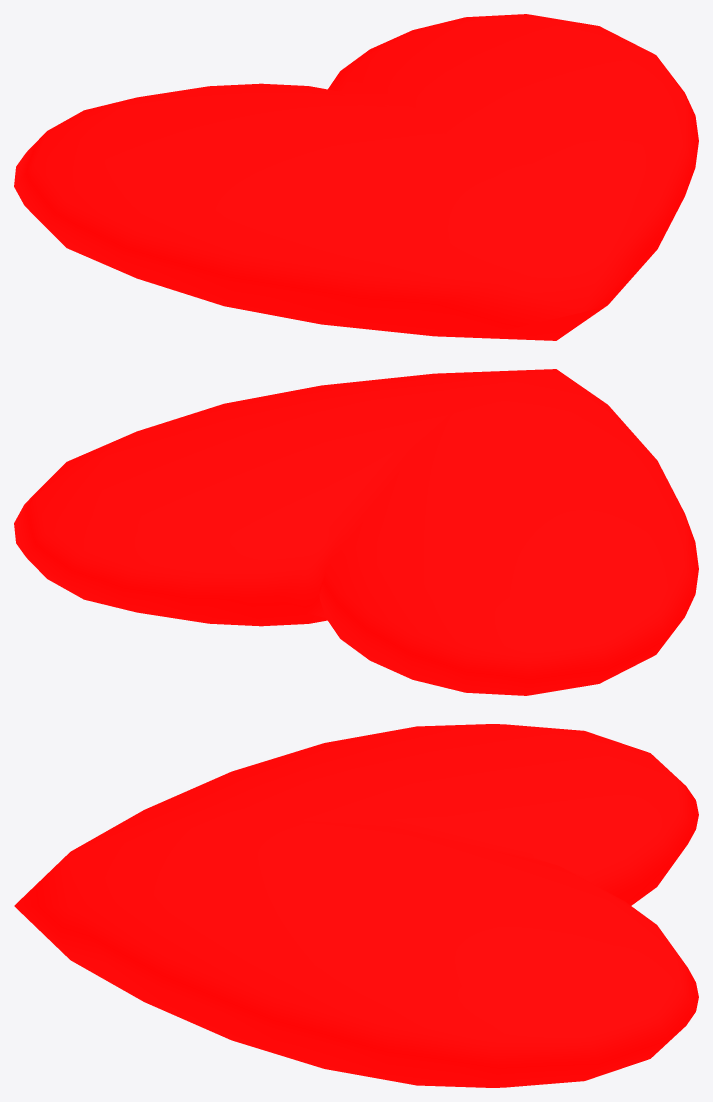
Rendered from CorazonHP.fbx.
3 renders of one model, top to bottom at view 1: azimuth 30°, elevation 25°; view 2: azimuth 150°, elevation 25°; view 3: azimuth 270°, elevation 25°, orthographic. The views are drawn at different scales.
Visible parts, largest first — view 1: corazon.002; view 2: corazon.002; view 3: corazon.002.
Boxes of the visible parts, <box> form: corazon.002: <box>14,14,698,340</box>; corazon.002: <box>14,369,698,695</box>; corazon.002: <box>14,724,698,1087</box>.
Size of the model in its own units: 21.63 by 4.19 by 19.14.
